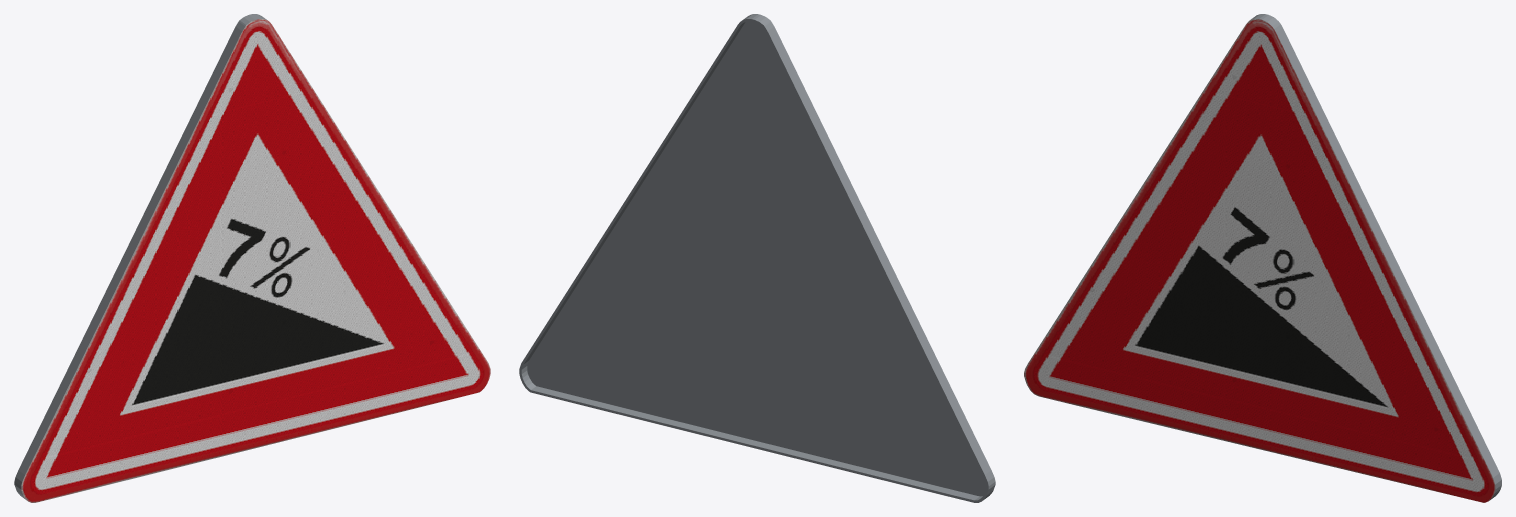
3 renders of one model, left to right at view 1: azimuth 30°, elevation 25°; view 2: azimuth 150°, elevation 25°; view 3: azimuth 330°, elevation 25°, orthographic.
Visible parts, largest first — view 1: cat_4b91cfb5d6858a55; view 2: cat_4b91cfb5d6858a55; view 3: cat_4b91cfb5d6858a55.
Part boxes in pixels (bbox=[...]): cat_4b91cfb5d6858a55: bbox=[14, 14, 490, 502]; cat_4b91cfb5d6858a55: bbox=[519, 14, 995, 502]; cat_4b91cfb5d6858a55: bbox=[1024, 14, 1501, 502].
Bounding box in the file's own units: 0.6 × 0.015 × 0.5245.
Materials: 2 (1 with a texture image).
